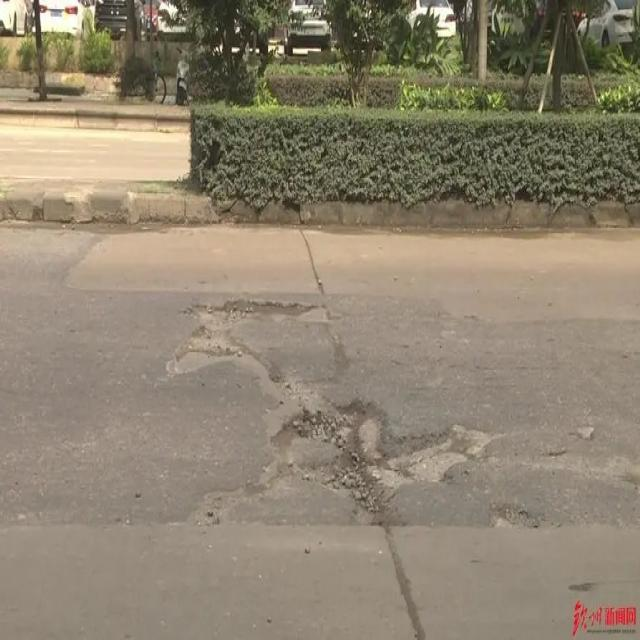Pothole: (277, 387, 491, 481), (174, 296, 334, 367), (487, 503, 537, 535)
